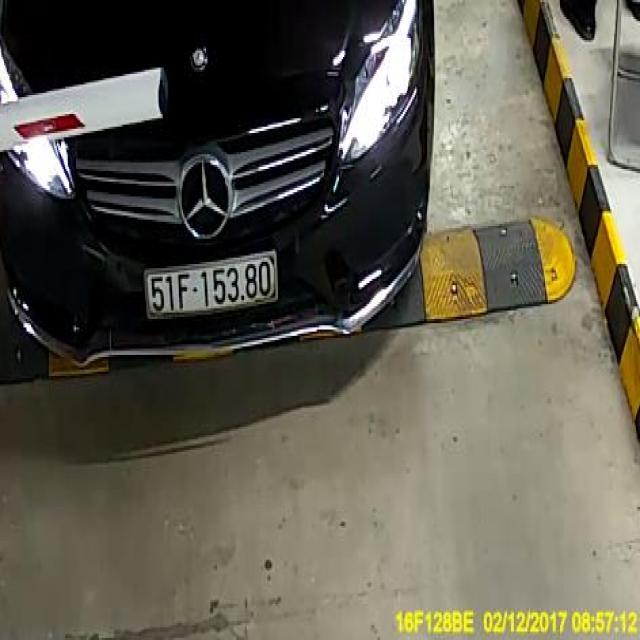bien_so_oto: (147, 252, 277, 314)
